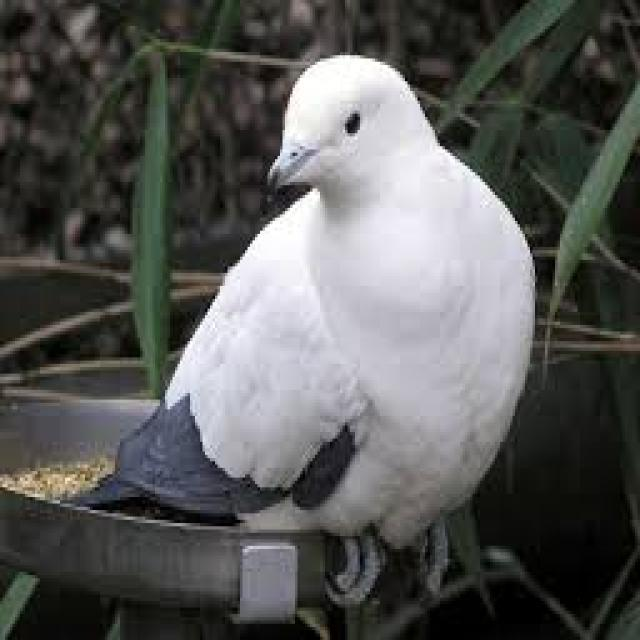pigeon: (122, 50, 543, 548)
